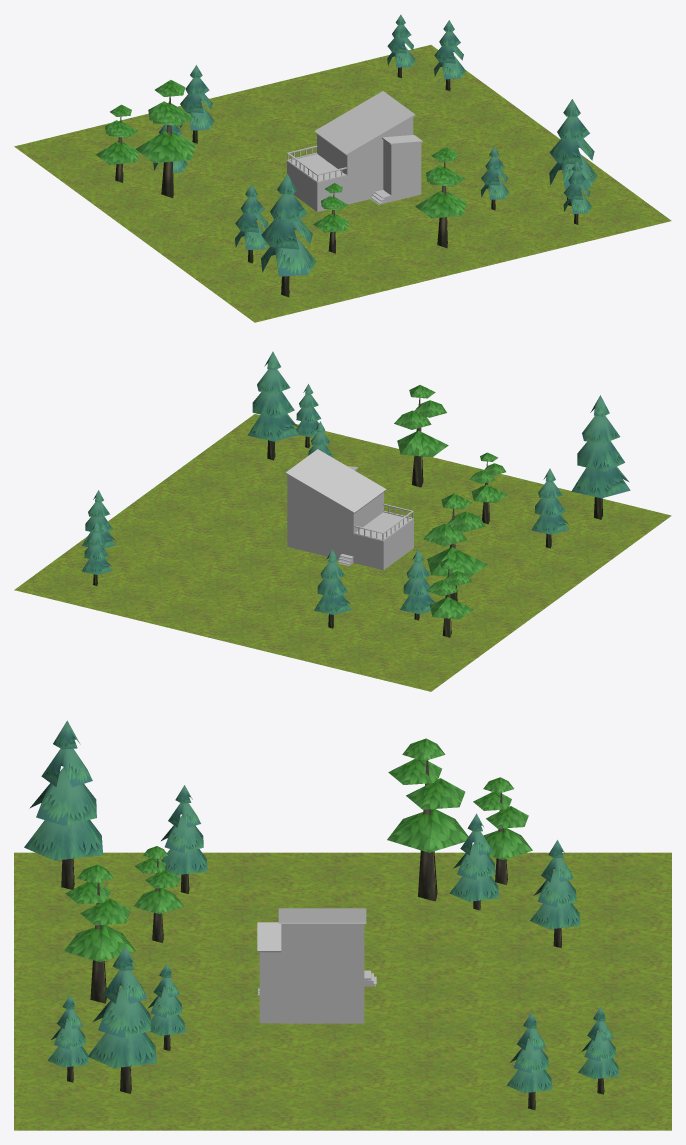
The model's file is zhuzhai_singles_lod.FBX.
The picture shows the model from 3 angles, top to bottom: view 1: azimuth 30°, elevation 25°; view 2: azimuth 150°, elevation 25°; view 3: azimuth 270°, elevation 25°; orthographic projection. The views are drawn at different scales.
Visible parts, largest first — view 1: caodi, shu, zhuzhai_singles_lod; view 2: caodi, shu, zhuzhai_singles_lod; view 3: caodi, shu, zhuzhai_singles_lod.
Part boxes in pixels (box(x1,y1,x2,y2)): caodi: box(14, 45, 671, 322); shu: box(96, 14, 597, 297); zhuzhai_singles_lod: box(287, 91, 422, 211); caodi: box(14, 414, 671, 691); shu: box(81, 351, 630, 637); zhuzhai_singles_lod: box(285, 449, 413, 570); caodi: box(14, 852, 671, 1130); shu: box(24, 720, 618, 1109); zhuzhai_singles_lod: box(257, 908, 376, 1023).
Size of the model in its own units: 6400 by 1902 by 6400.
